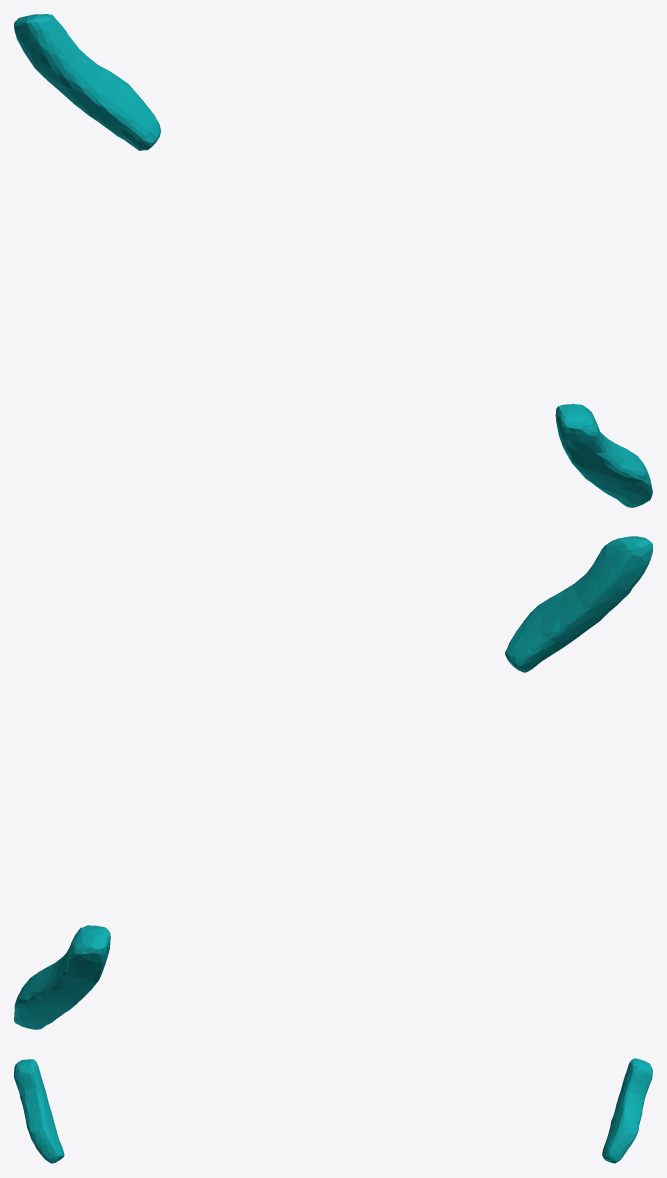
The picture shows the model from 3 angles, top to bottom: view 1: azimuth 30°, elevation 25°; view 2: azimuth 150°, elevation 25°; view 3: azimuth 270°, elevation 25°; orthographic projection. The views are drawn at different scales.
Parts seen in each view (by area): view 1: 252.obj; view 2: 252.obj; view 3: 252.obj.
Boxes of the visible parts, bbox=[...] form: 252.obj: bbox=[14, 14, 652, 507]; 252.obj: bbox=[14, 536, 652, 1029]; 252.obj: bbox=[14, 1058, 652, 1163].
Size of the model in its own units: 1051 by 1203 by 8850.
